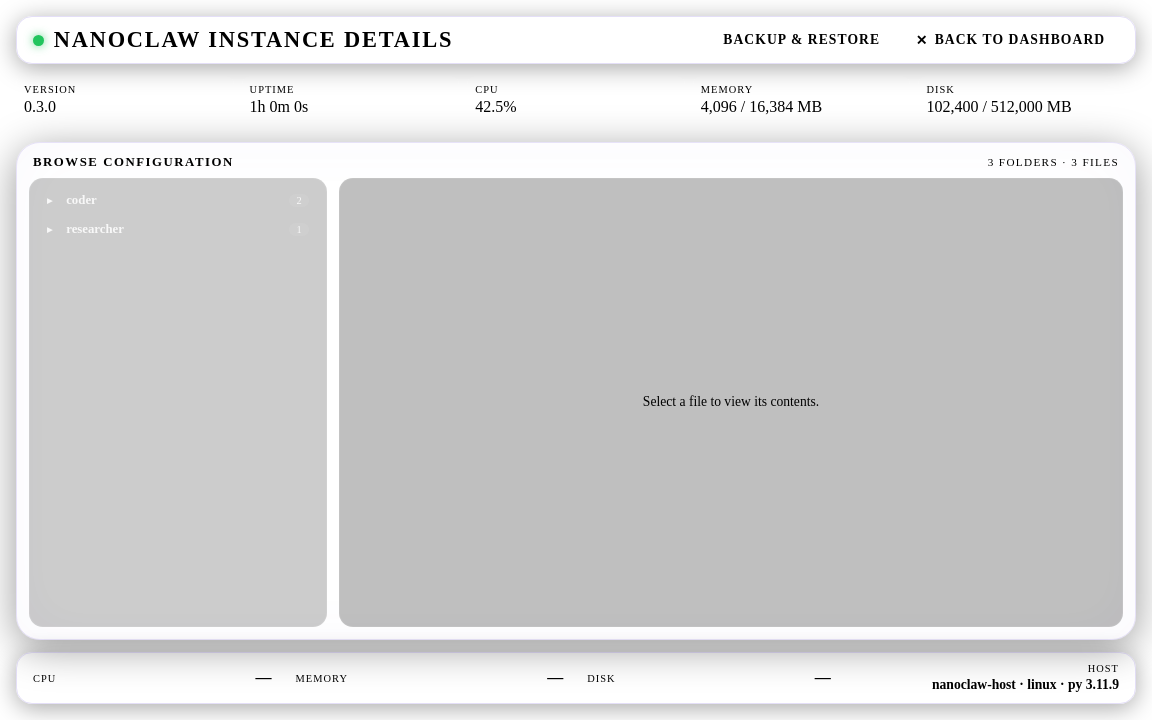
InstanceDetails › fetches and shows file content when a file is selected
Click the button "▸ coder 2" at [81, 200], box [38,187,318,214]
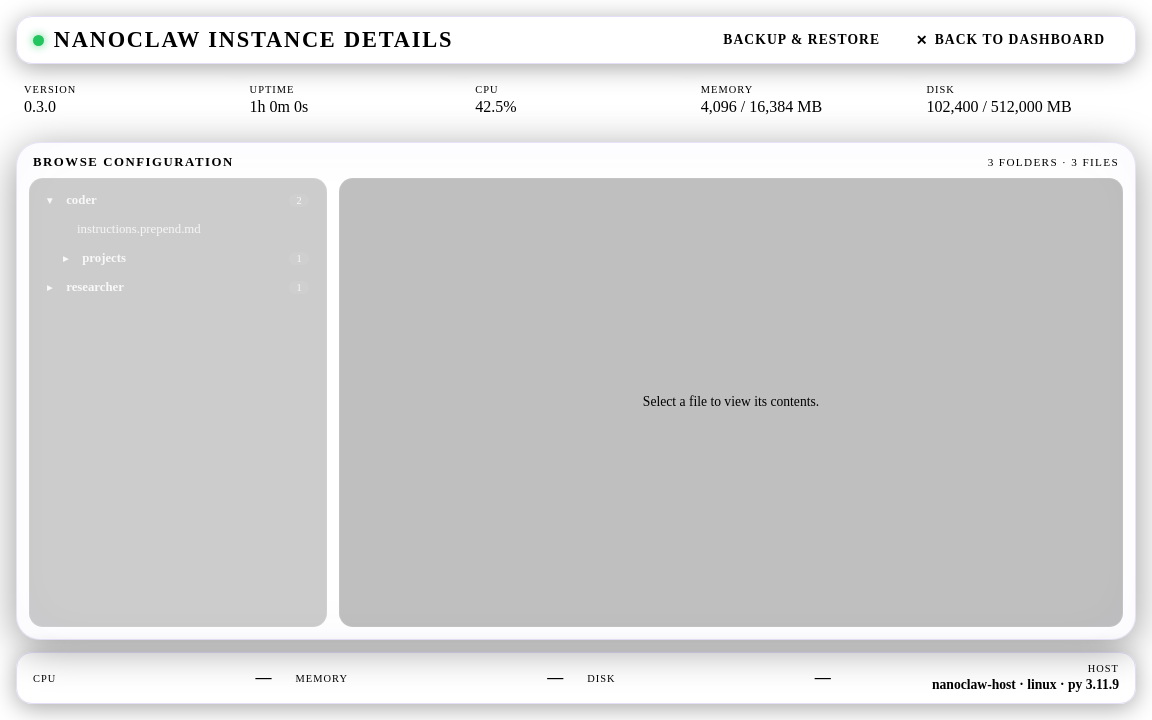
Click the button "instructions.prepend.md" at [178, 229], box [38,216,318,243]
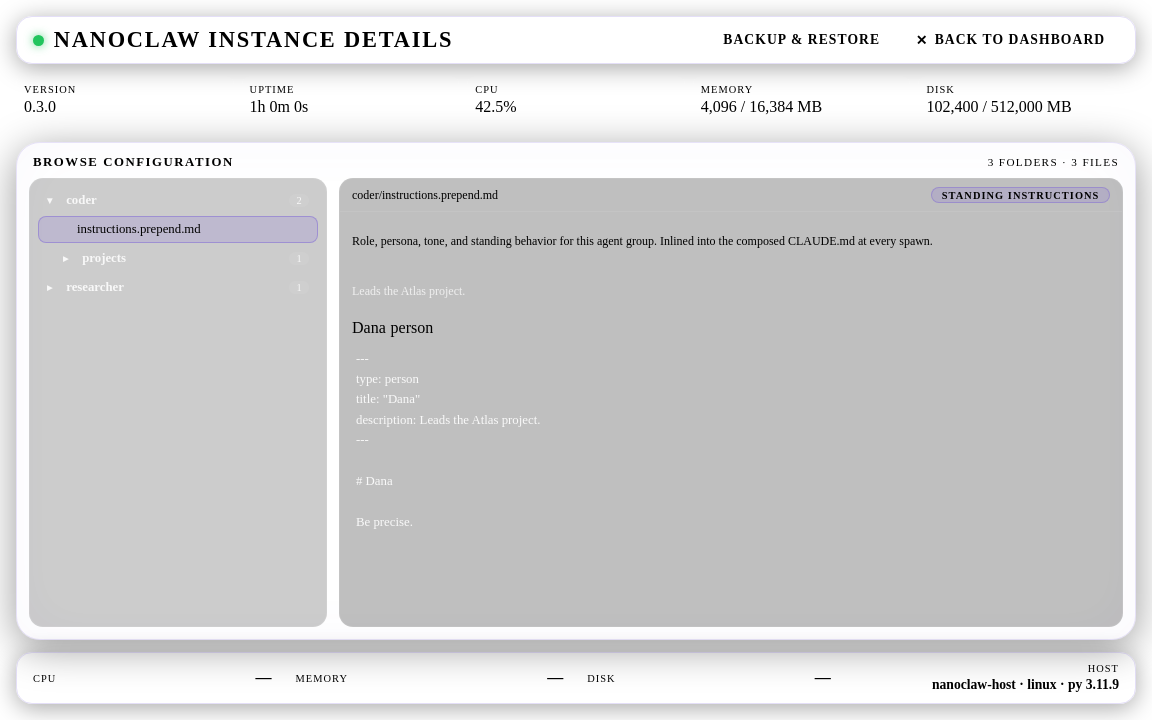
Expected: the text "Be precise." is shown, [356,352,540,529]
